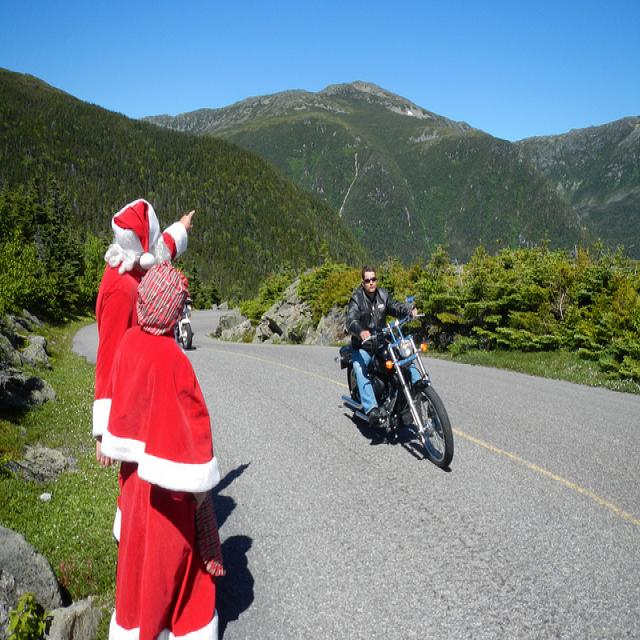motor: (332, 299, 458, 470), (174, 301, 190, 352)
